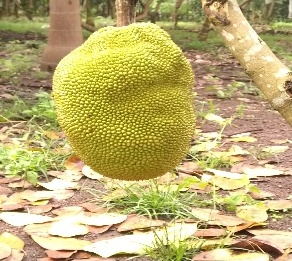Mit: (50, 24, 198, 179)
